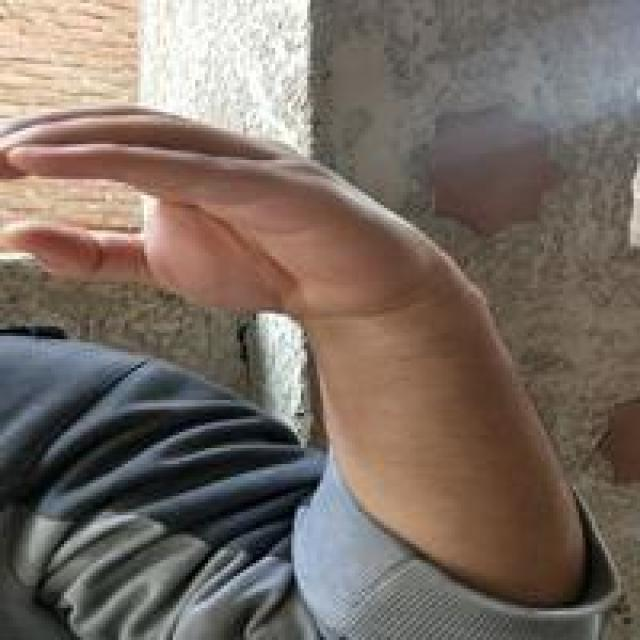C: (0, 101, 413, 280)
